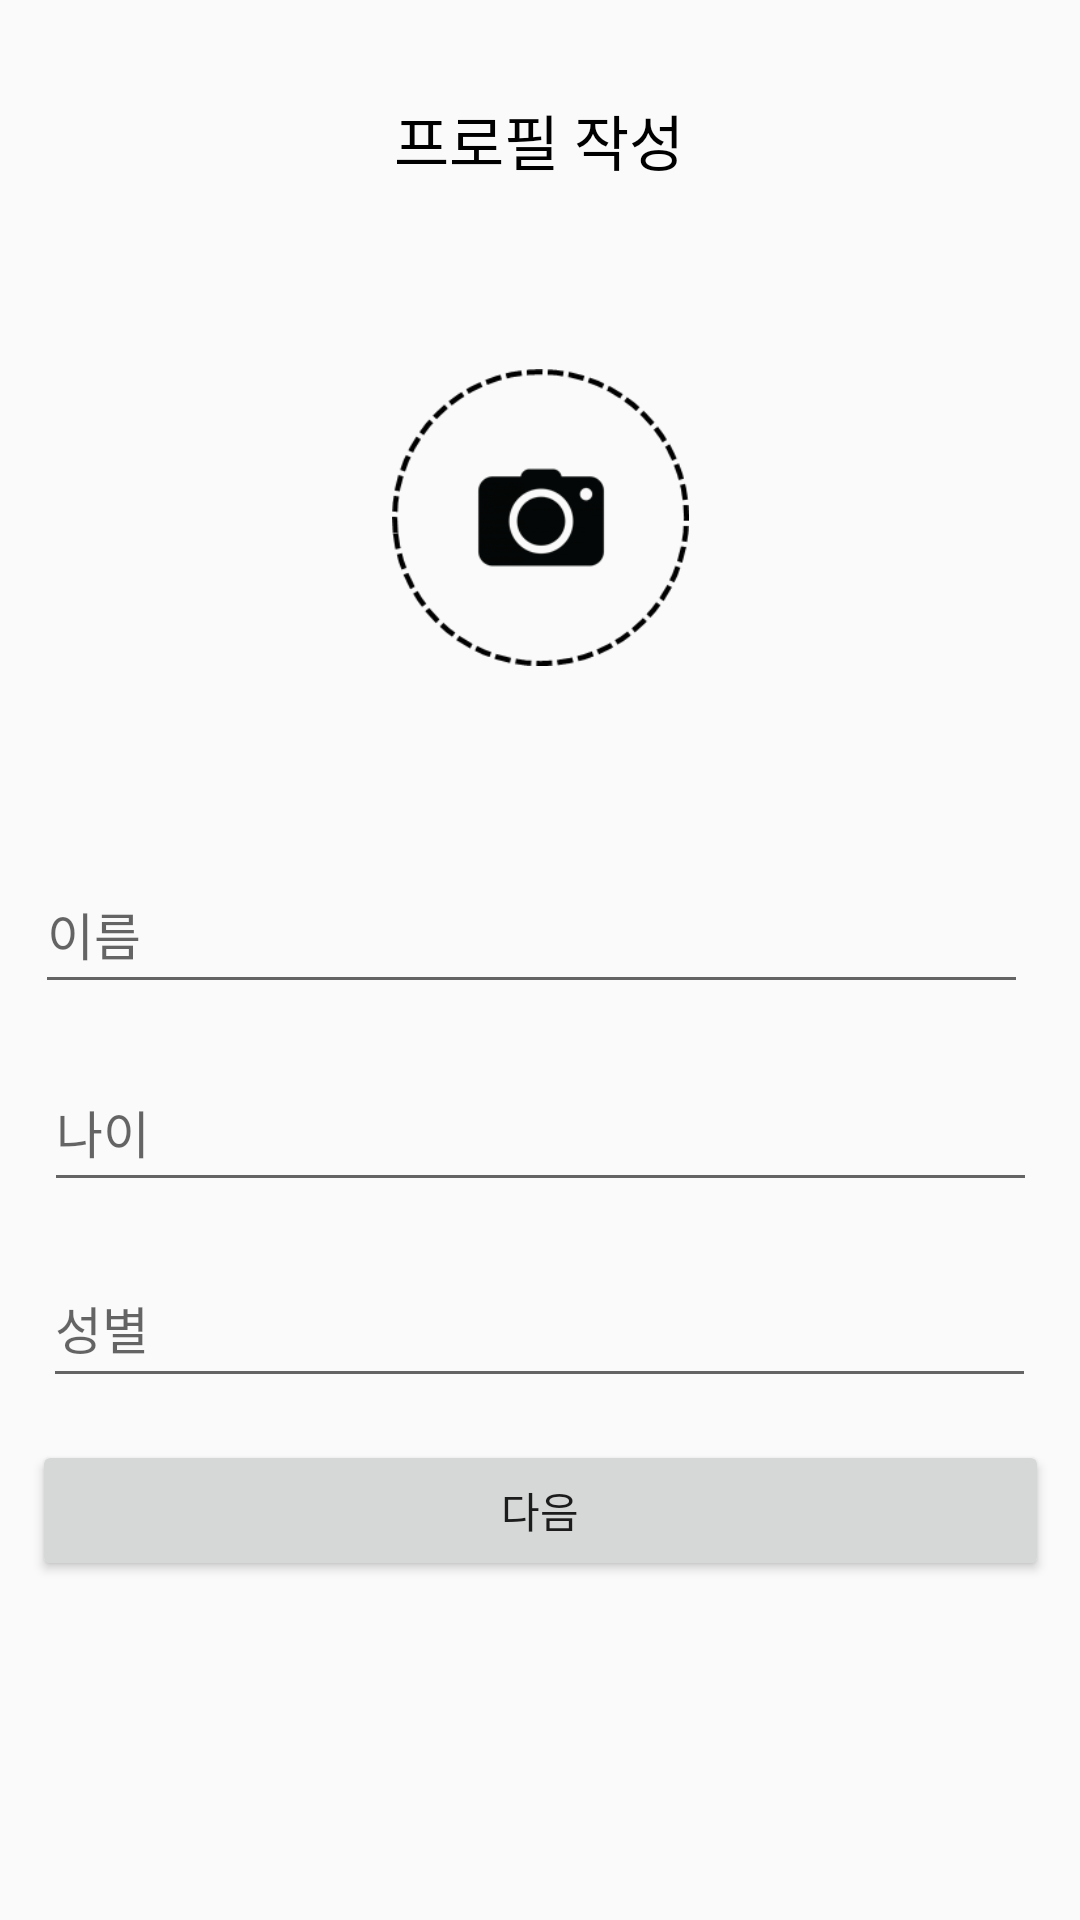

Icons on this 1080*1920 Android screen, each with its box as (x1, y1, x2, y2):
ficture: (392, 369, 689, 666)
